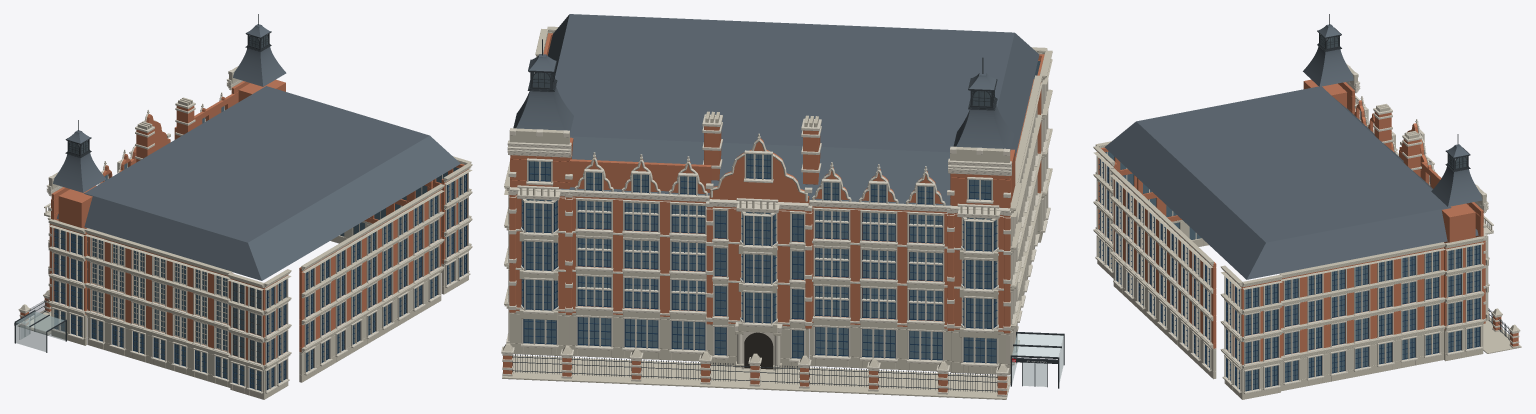
File: sal-exterior-7c23336e4d49.glb
3 renders of one model, left to right at view 1: azimuth 30°, elevation 25°; view 2: azimuth 150°, elevation 25°; view 3: azimuth 270°, elevation 25°, orthographic. The views are drawn at different scales.
Parts seen in each view (by area): view 1: SAL.001; view 2: SAL.001; view 3: SAL.001.
Boxes of the visible parts, bbox=[...] form: SAL.001: bbox=[14, 14, 472, 399]; SAL.001: bbox=[501, 14, 1064, 399]; SAL.001: bbox=[1093, 14, 1521, 399].
Size of the model in its own units: 68.11 by 33.89 by 61.15.
